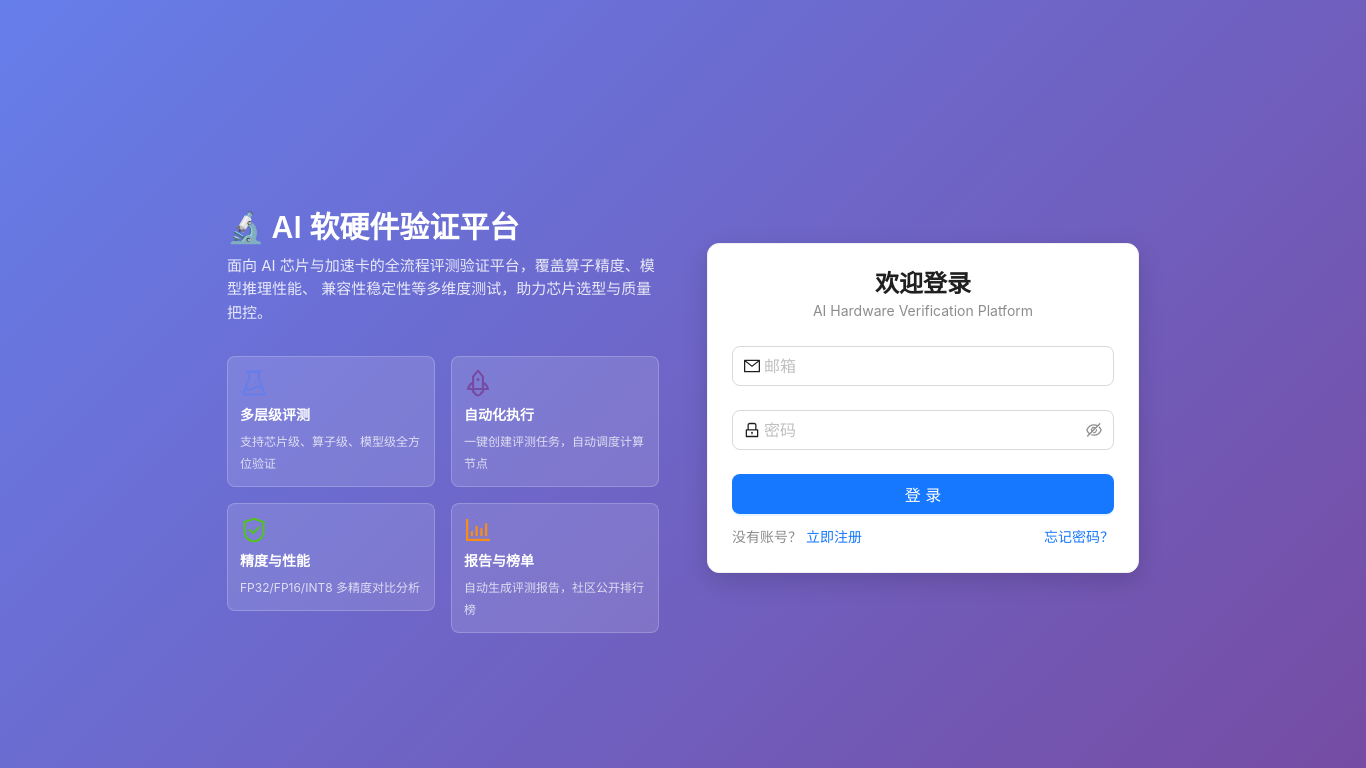
Test: Login Page › shows validation error for invalid email format
Type "notanemail" into the field with placeholder "邮箱". click: (933, 366)
box: [764,354,1102,378]
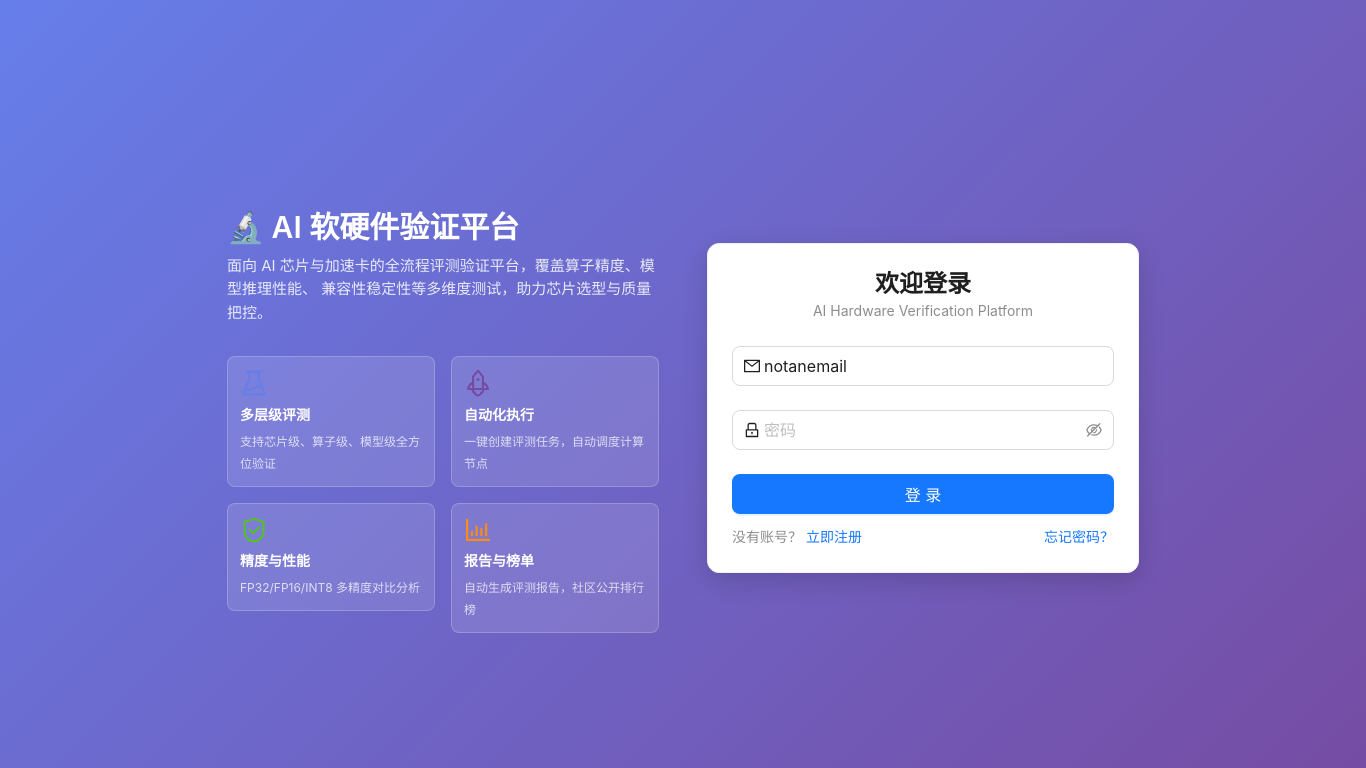
Type "password" into the password field with placeholder "密码". click: (923, 430)
box: [764,418,1082,442]
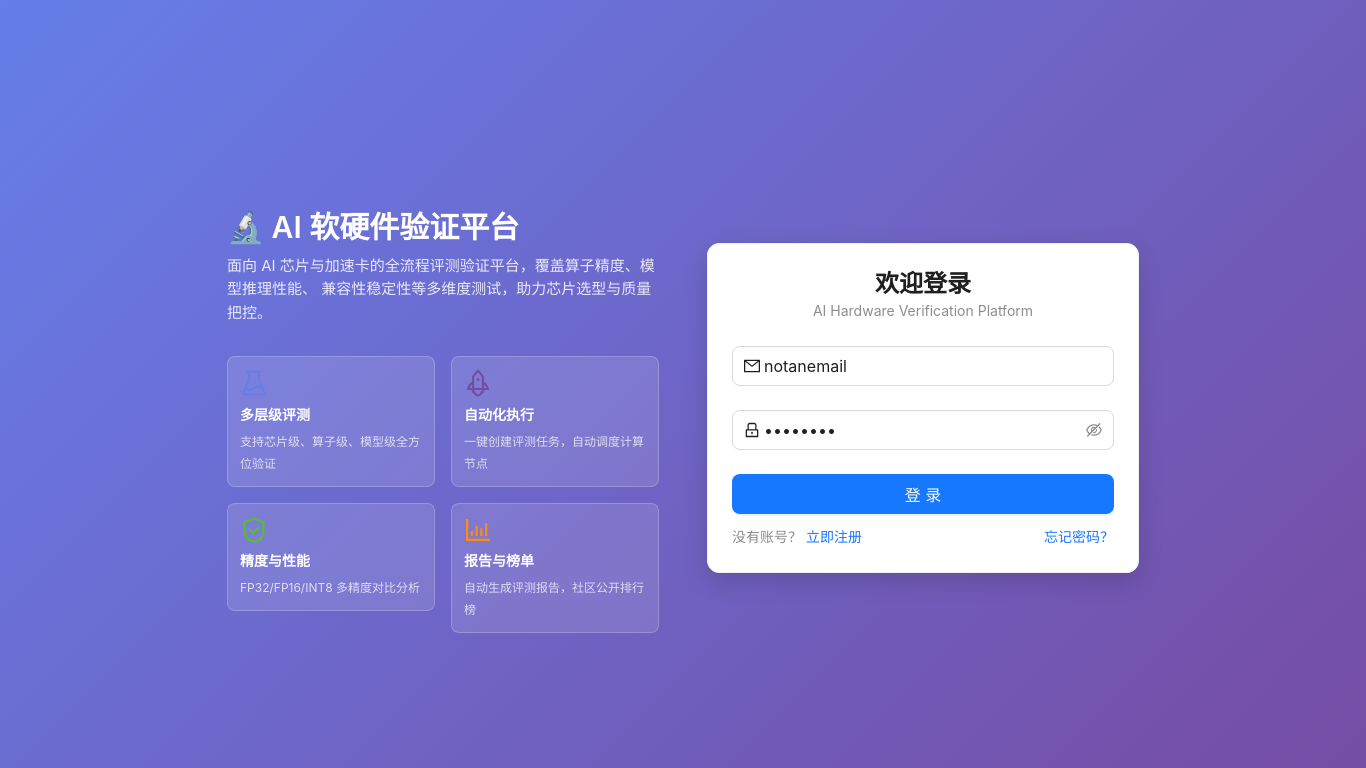
Click the button "登 录". click: (923, 494)
box: [732,474,1114,514]
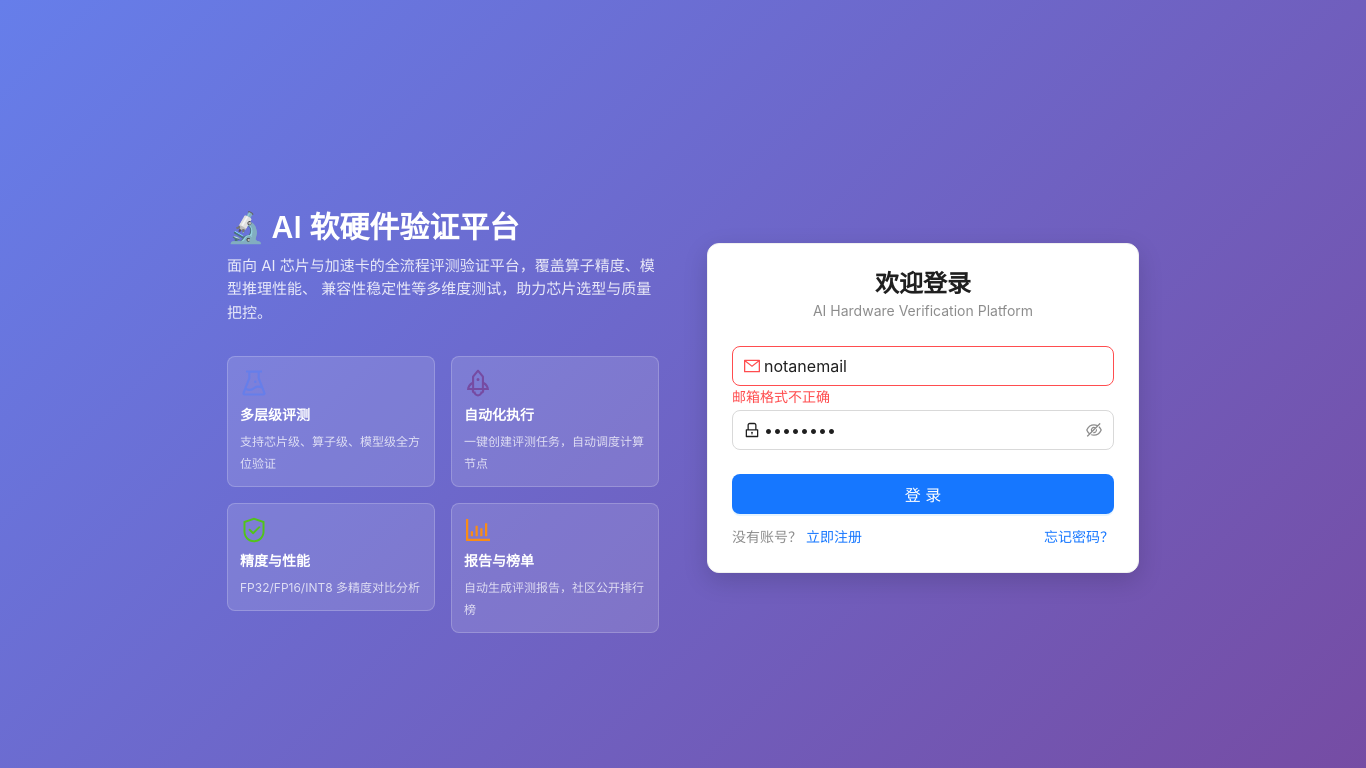
Result: the text "邮箱格式不正确" is shown at [732,388,830,405]
